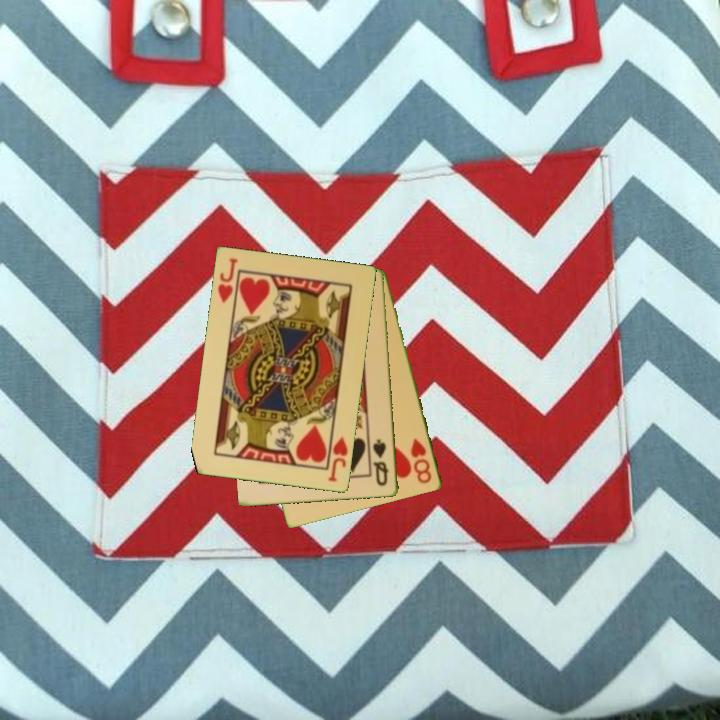8h: (407, 435, 435, 487)
Jh: (214, 255, 241, 306), (325, 433, 351, 485)
Qs: (369, 436, 392, 489)
